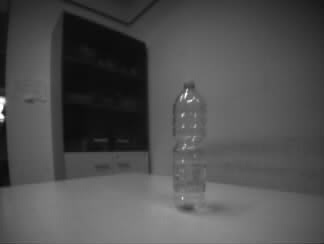Bottle: (170, 79, 207, 212)
